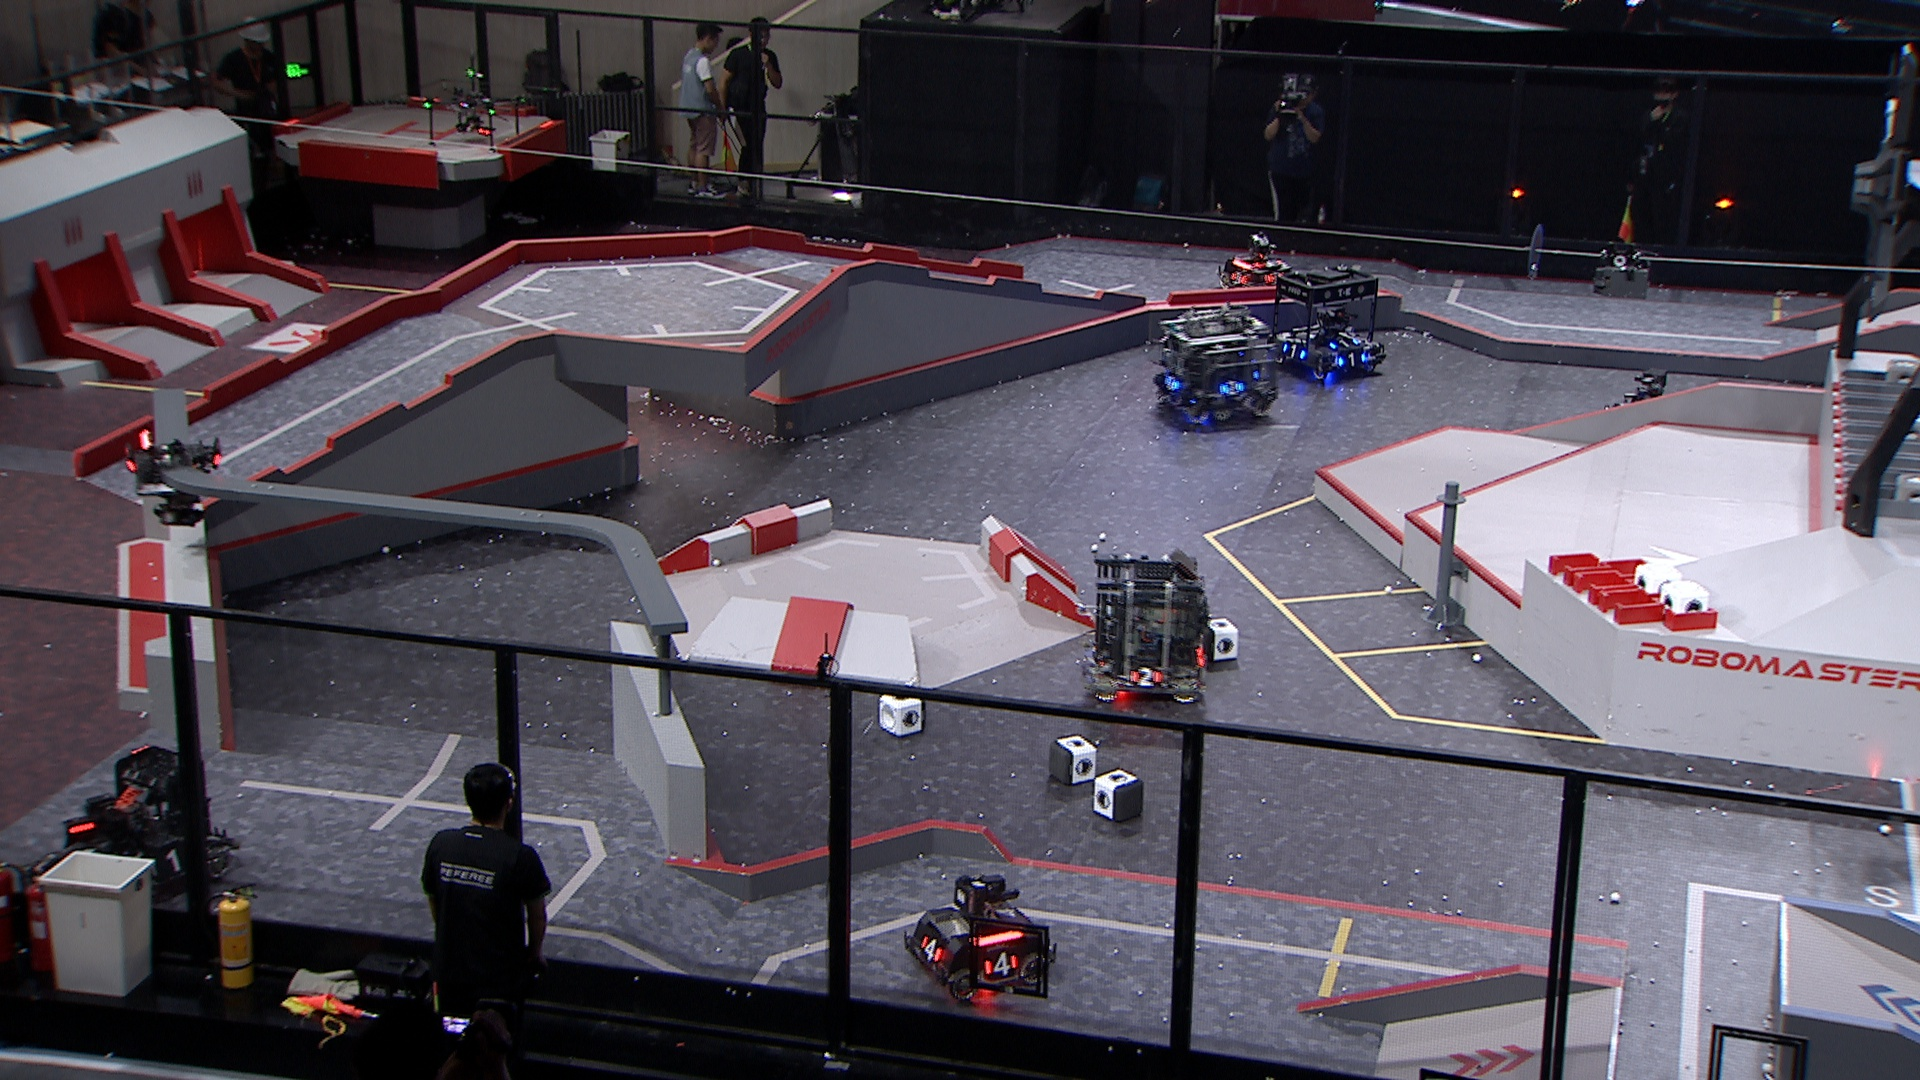armor: (146, 849, 186, 880), (1127, 665, 1164, 692), (918, 931, 945, 965), (981, 951, 1021, 975), (1325, 334, 1361, 352), (1220, 377, 1247, 398), (1337, 352, 1367, 367), (1251, 258, 1284, 272), (1228, 268, 1247, 289), (1163, 373, 1185, 392), (1283, 343, 1307, 360)
car: (24, 742, 244, 920), (901, 872, 1060, 1004), (1084, 553, 1215, 704), (1153, 306, 1280, 425), (1266, 262, 1389, 385), (1596, 367, 1702, 446), (1216, 229, 1298, 301)
watcher: (121, 425, 225, 527)
